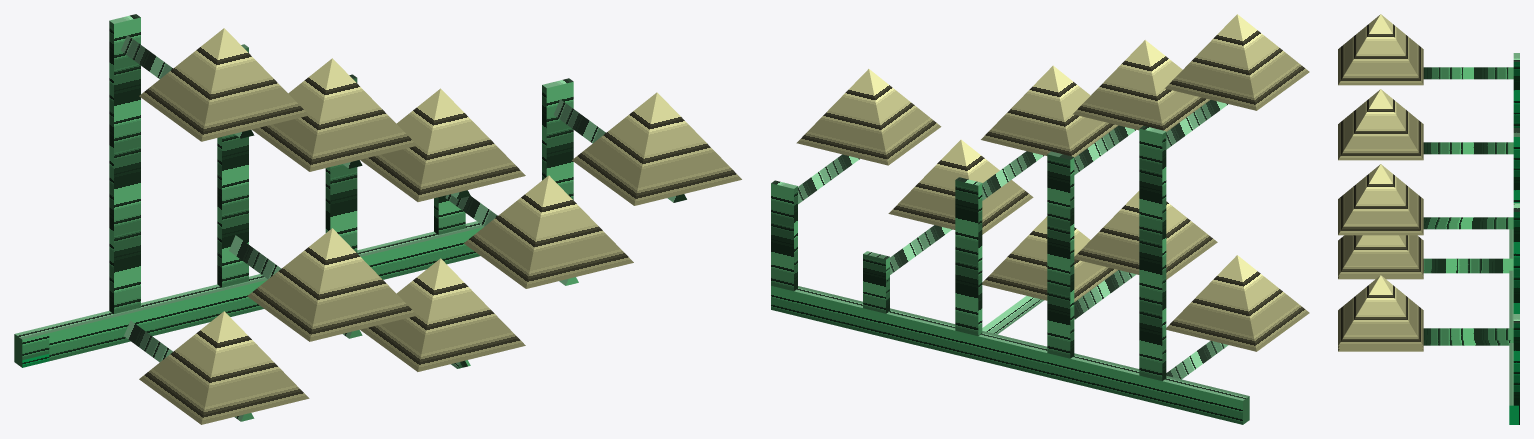
The model's file is rc_dorifu4.glb.
3 views of the same model, side by side, from view 1: azimuth 30°, elevation 25°; view 2: azimuth 150°, elevation 25°; view 3: azimuth 270°, elevation 25° (orthographic). The views are drawn at different scales.
Visible parts, largest first — view 1: rc_dorifu4; view 2: rc_dorifu4; view 3: rc_dorifu4.
Boxes of the visible parts, x1,y1,x2,y2 form: rc_dorifu4: (14, 14, 741, 424); rc_dorifu4: (771, 14, 1309, 424); rc_dorifu4: (1338, 14, 1519, 424).
Size of the model in its own units: 8.59 by 5.27 by 3.32.
Materials: 1 (1 with a texture image).
